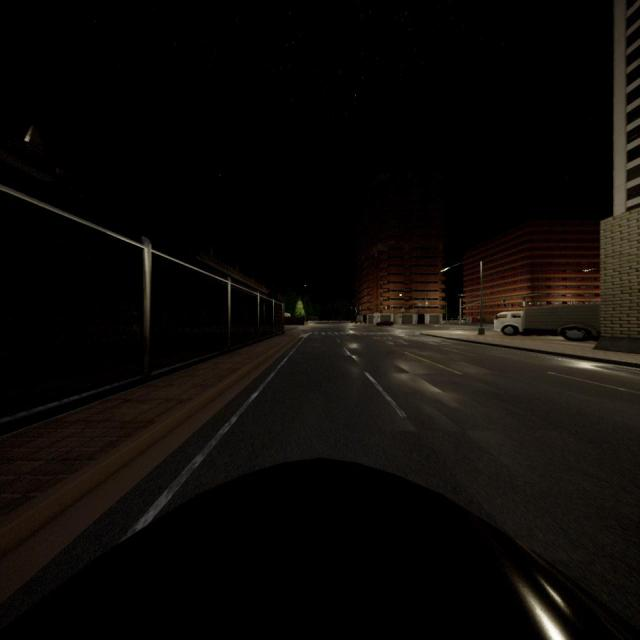Vehicle: (0, 460, 640, 640), (494, 304, 601, 342), (376, 320, 395, 327)
